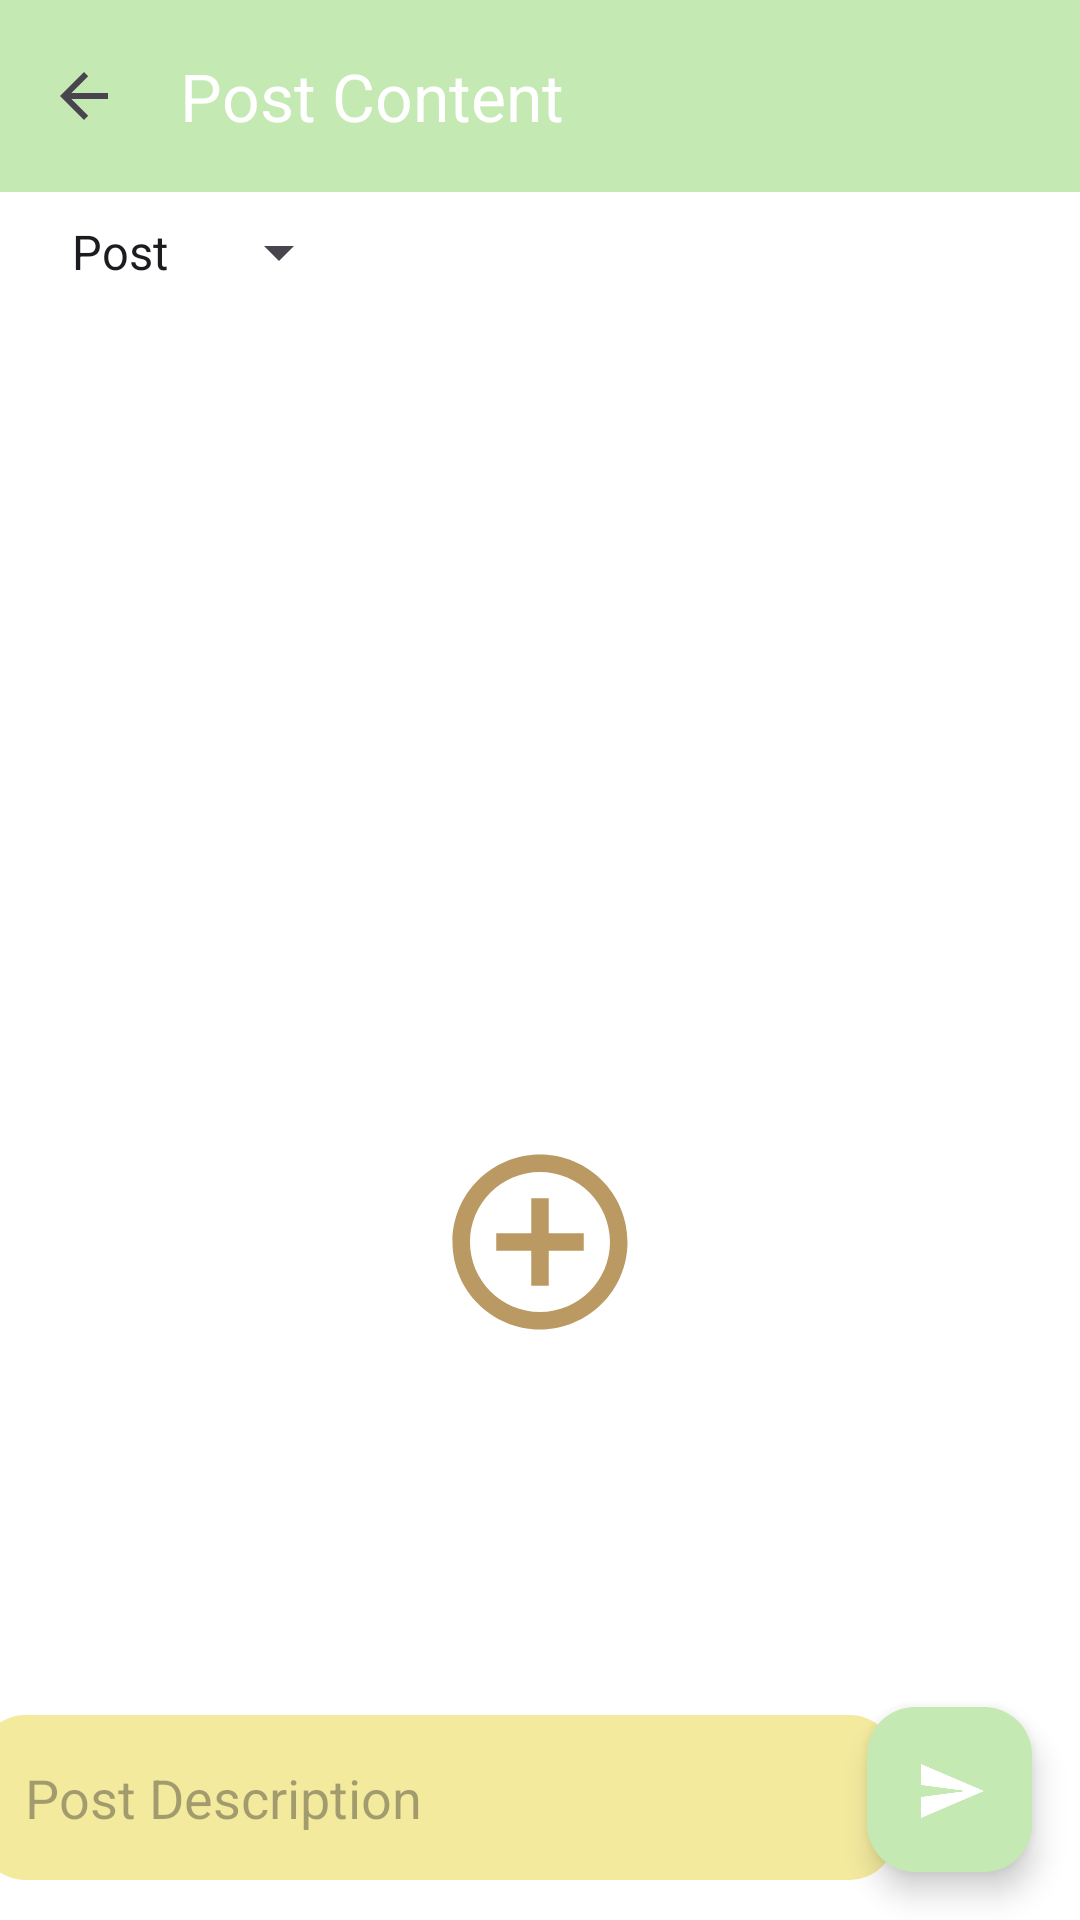

Point at icon controls on the screen. Image size 1080px x 1920px, points as point (x, y).
post share: point (949, 1789)
